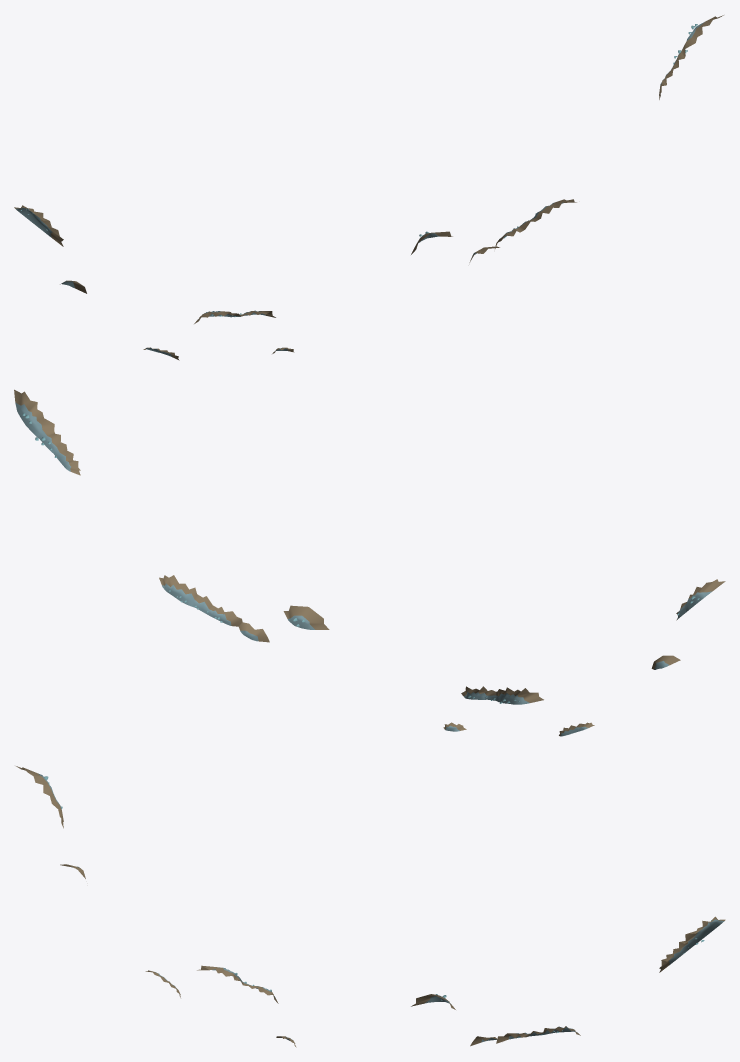
The model's file is distant-view-01.glb.
The picture shows the model from 3 angles, top to bottom: view 1: azimuth 30°, elevation 25°; view 2: azimuth 150°, elevation 25°; view 3: azimuth 330°, elevation 25°; orthographic projection.
Parts seen in each view (by area): view 1: FldDistantView01_node1; view 2: FldDistantView01_node1; view 3: FldDistantView01_node1.
Boxes of the visible parts, <box> form: FldDistantView01_node1: <box>14,15,723,360</box>; FldDistantView01_node1: <box>14,389,725,736</box>; FldDistantView01_node1: <box>16,766,725,1047</box>.
Size of the model in its own units: 62.06 by 19.49 by 1.84.
Materials: 1 (1 with a texture image).
